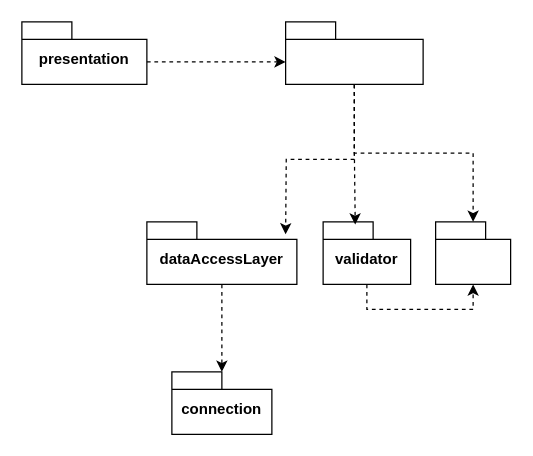
Some shapes in this 533 by 456 pixel diagram are drawn without their labels. The centre of each missing label's shape, as x and y in pixels:
"businessLayer" belongs at (353,52).
"model" belongs at (472,252).
